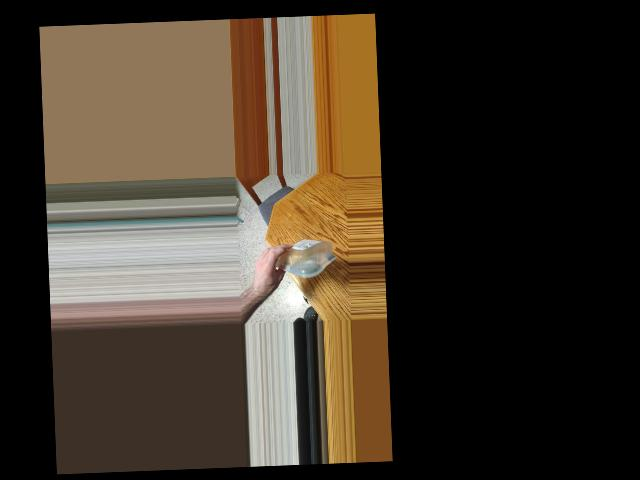cheese: (263, 236, 336, 276)
